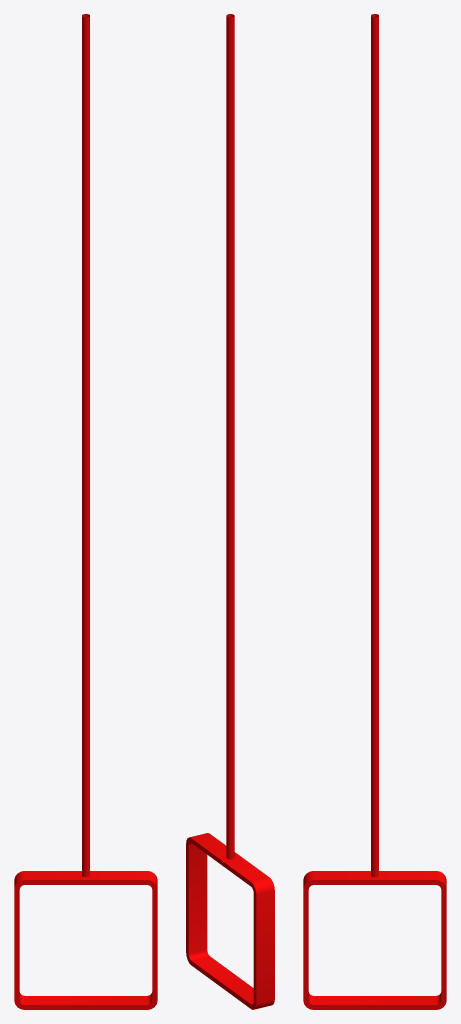
File: cutter1_cube.fbx
The picture shows the model from 3 angles, left to right: view 1: azimuth 90°, elevation 25°; view 2: azimuth 210°, elevation 25°; view 3: azimuth 270°, elevation 25°; orthographic projection. The views are drawn at different scales.
Parts seen in each view (by area): view 1: Cutter1_Cube; view 2: Cutter1_Cube; view 3: Cutter1_Cube.
Part boxes in pixels (<box>): Cutter1_Cube: <box>14,14,157,1009</box>; Cutter1_Cube: <box>186,14,274,1009</box>; Cutter1_Cube: <box>303,14,446,1009</box>.
Bounding box in the file's own units: 16.5 × 824 × 108.
